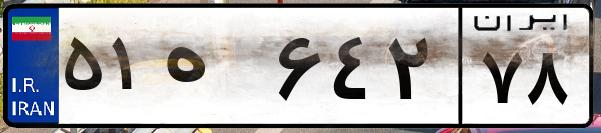1: (110, 28, 158, 98)
2: (385, 28, 445, 110)
4: (330, 28, 385, 110)
5: (57, 26, 110, 100)
6: (270, 28, 330, 110)
7: (475, 38, 525, 113)
8: (525, 38, 570, 115)
ه: (158, 20, 270, 120)
